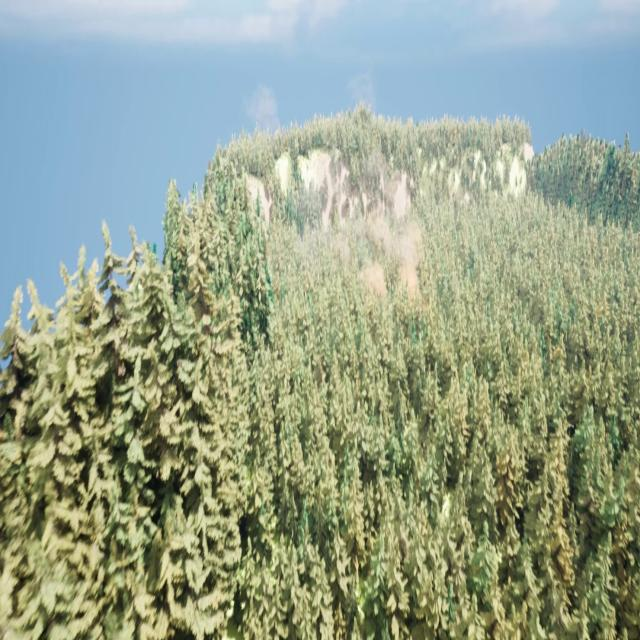smoke: (360, 217, 422, 301)
